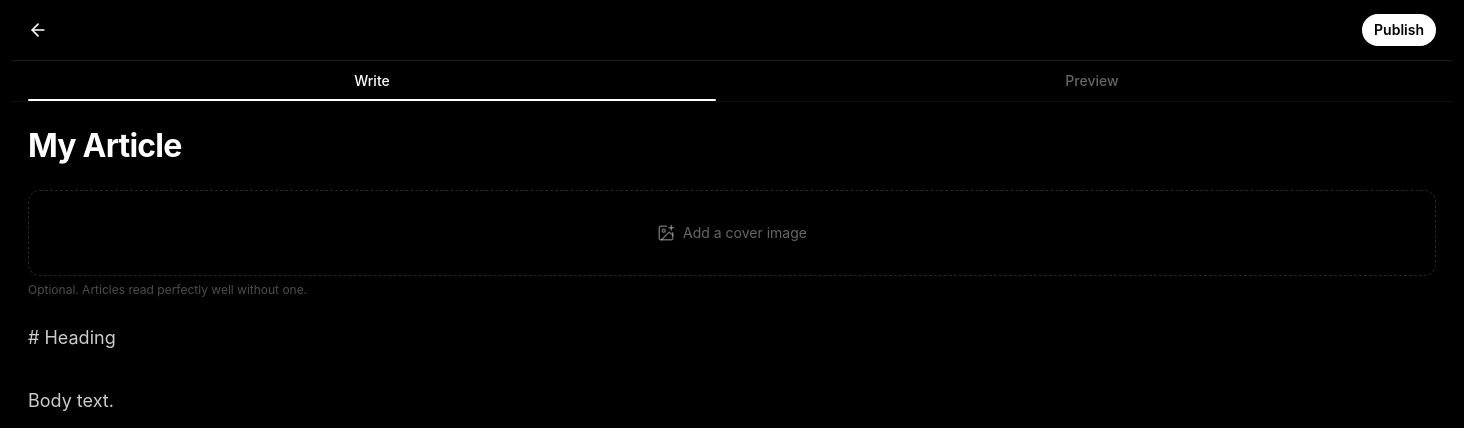
Test: ArticleEditorPage › the preview › renders the draft through the same markdown the reader gets
Click the button "Preview".
click(1092, 81)  # box 732,61 -> 1452,101
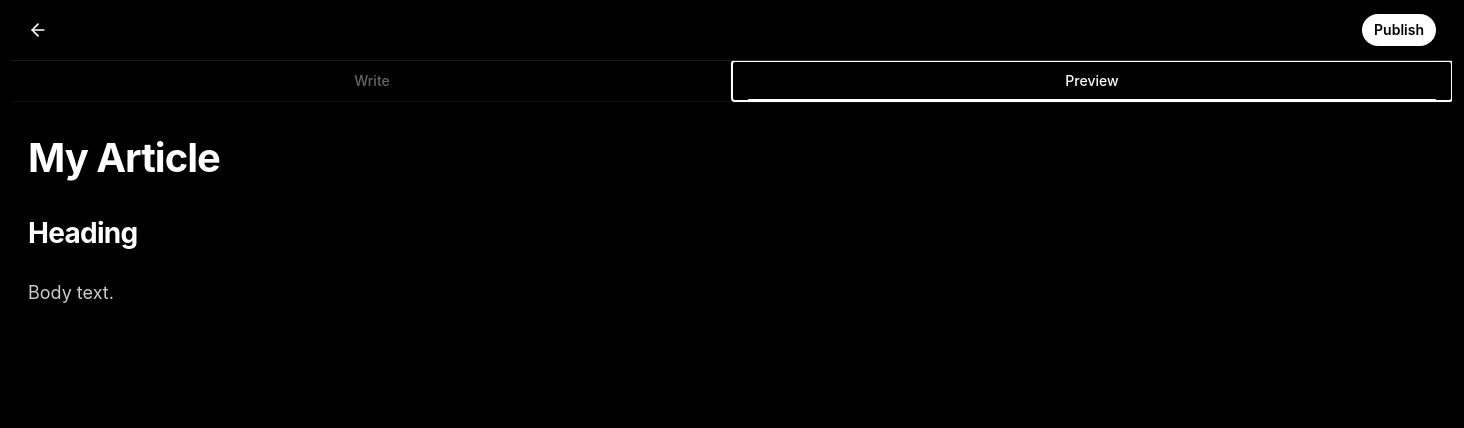
Expected: the heading "Heading" is shown, 28,216 -> 138,250
Expected: the text "Body text." is shown, 28,282 -> 114,302
